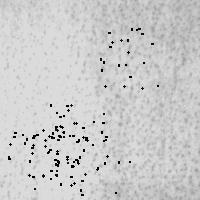pitted_surface: (91, 1, 200, 199), (1, 1, 101, 73), (48, 104, 106, 163), (100, 28, 157, 87), (8, 132, 67, 188), (31, 122, 85, 180), (70, 156, 129, 200)
